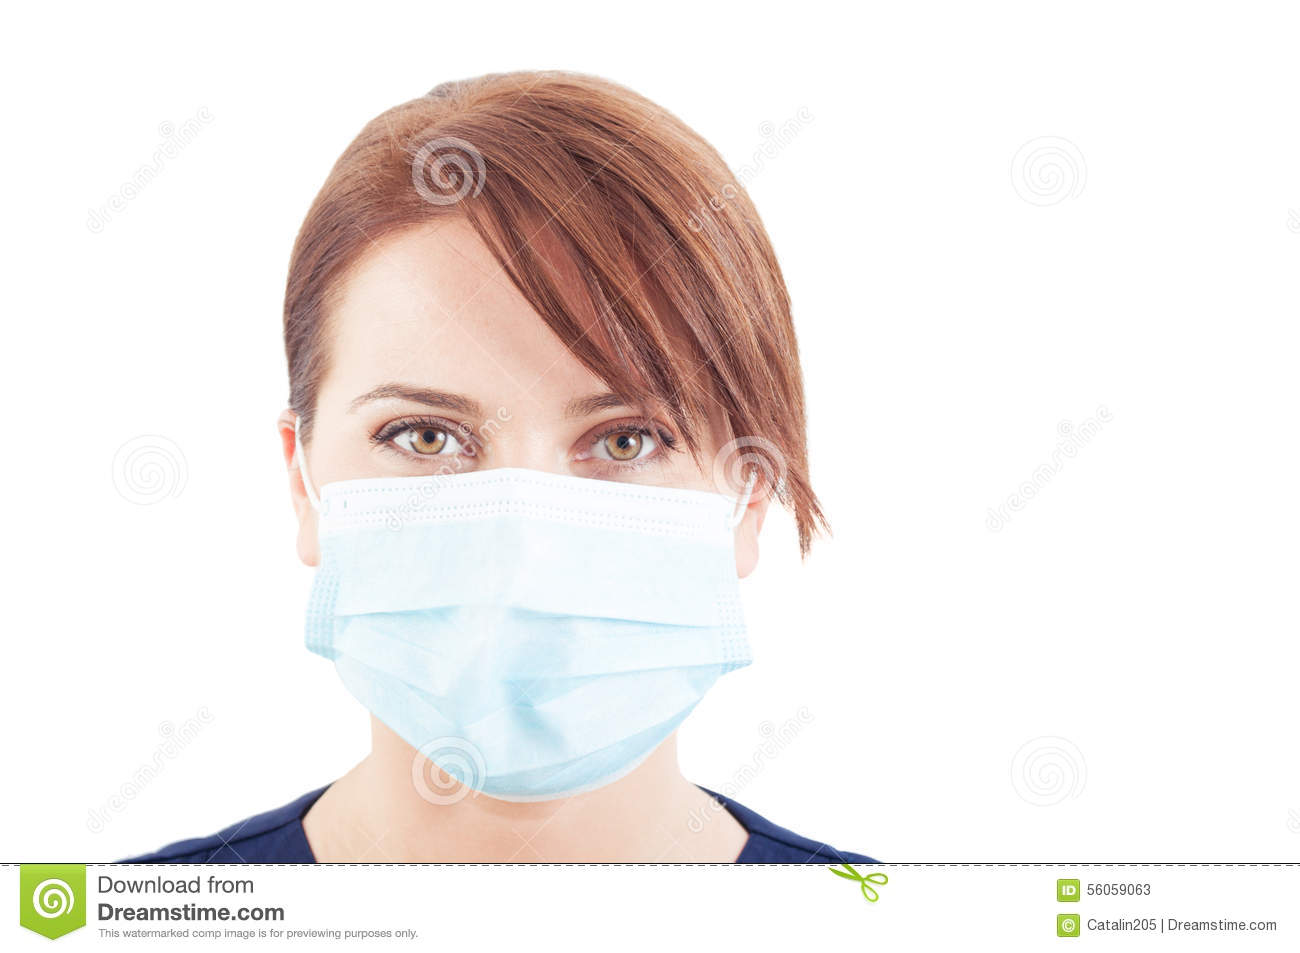mask: (279, 468, 766, 808)
